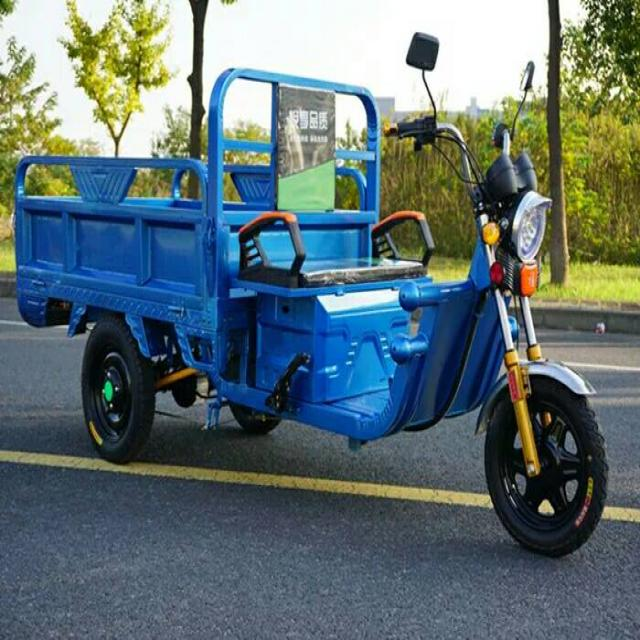tricycle: (15, 31, 608, 557)
